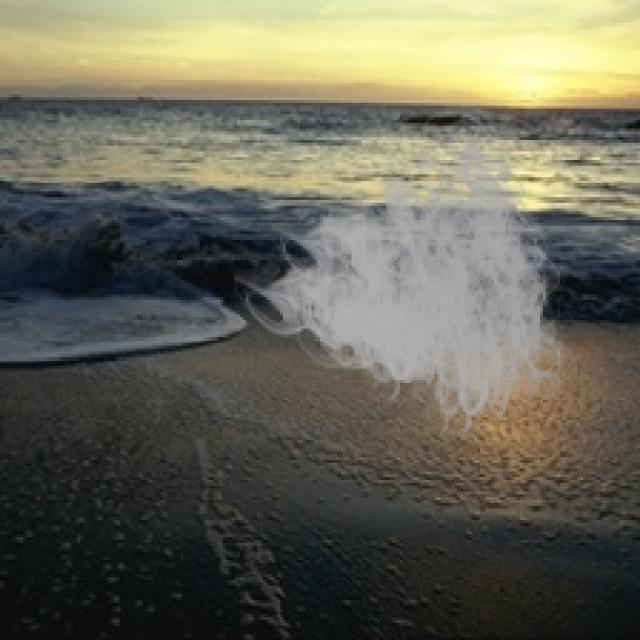smoke: (234, 97, 586, 449)
